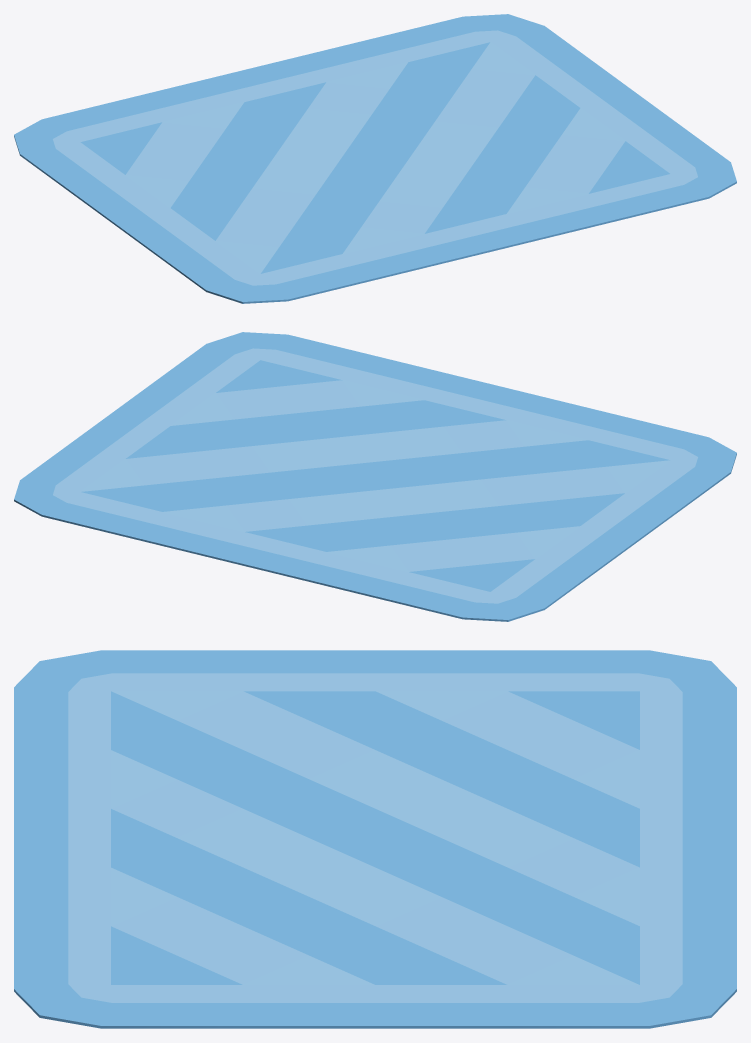
The model's file is Desk_base_02.fbx.
3 renders of one model, top to bottom at view 1: azimuth 30°, elevation 25°; view 2: azimuth 150°, elevation 25°; view 3: azimuth 270°, elevation 25°, orthographic. The views are drawn at different scales.
Visible parts, largest first — view 1: Desk_base_02; view 2: Desk_base_02; view 3: Desk_base_02.
Part boxes in pixels (x1=…): Desk_base_02: x1=14, y1=14, x2=736, y2=303; Desk_base_02: x1=14, y1=332, x2=736, y2=621; Desk_base_02: x1=14, y1=650, x2=736, y2=1028.
Bounding box in the file's own units: 4.42 × 0.0146 × 3.59.
